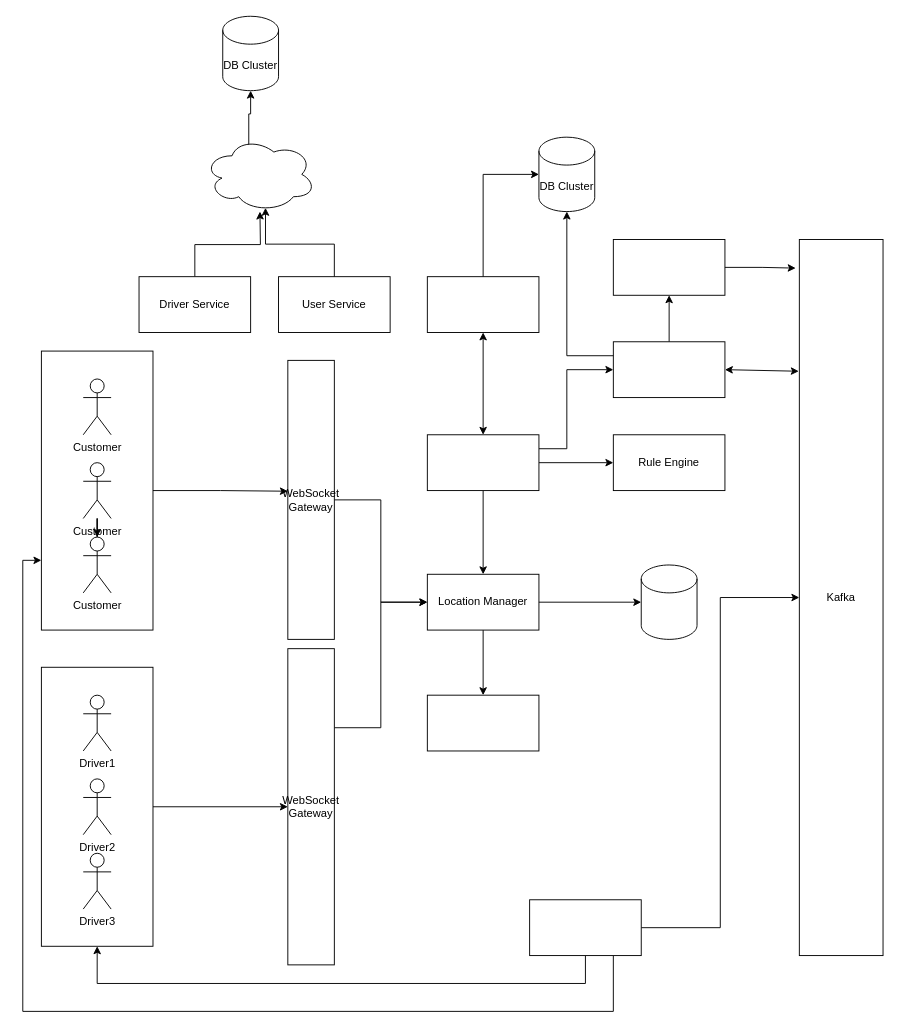
Some shapes in this 899 by 1035 pixel diagram are drawn without their labels. Each missing label, with the centre of its shape:
"Cab FInder" goes at point (482, 462).
"Cab Request Service" goes at point (482, 304).
"Map Service" goes at point (482, 722).
"NOtification Service" goes at point (585, 927).
"Payment Service" goes at point (668, 267).
"Redis" goes at point (668, 601).
"Redis Cluster" goes at point (259, 174).
"Trip Service" goes at point (668, 369).
